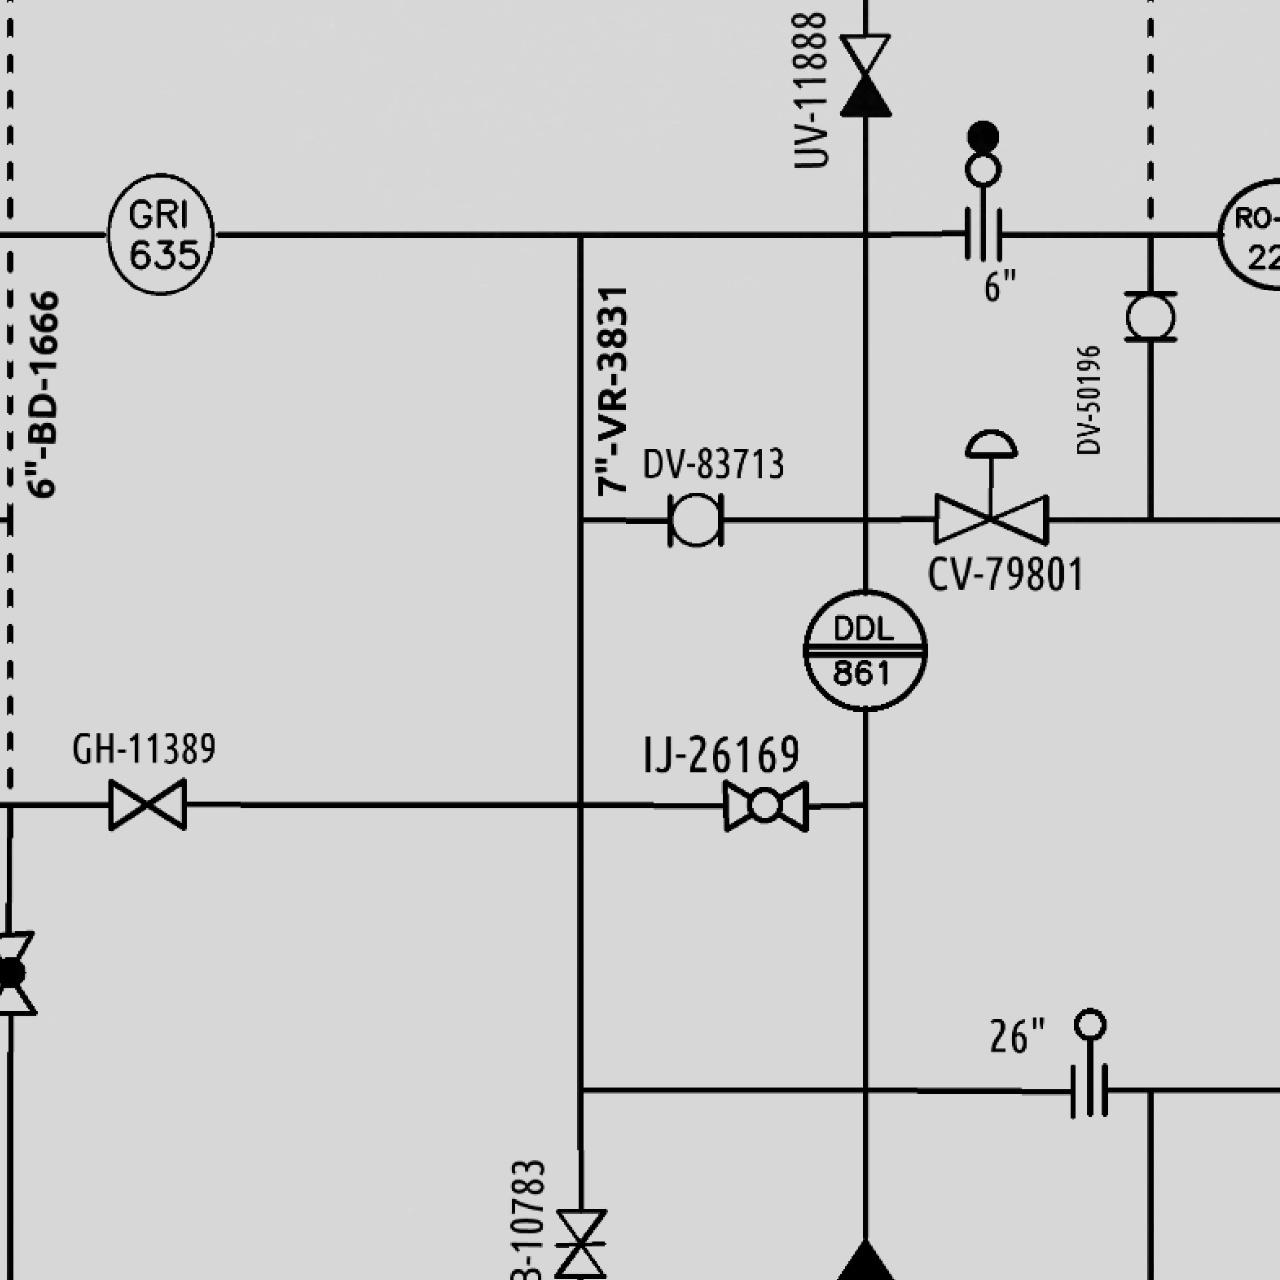Control-Panel: (798, 584, 930, 716)
Half closed valve: (835, 28, 894, 120)
